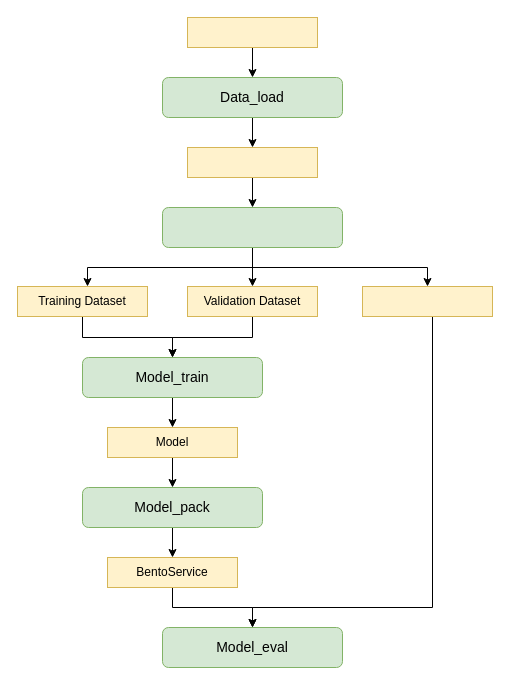
This 510x685 diagram has some shape labels left out. Here are the shapes that lost their labels. From the top down, the box of each, then its label:
(186, 16, 318, 48): external URL`s
(186, 146, 318, 178): Normalized Data
(162, 206, 342, 248): Data_prep
(362, 286, 492, 316): Testing Dataset
